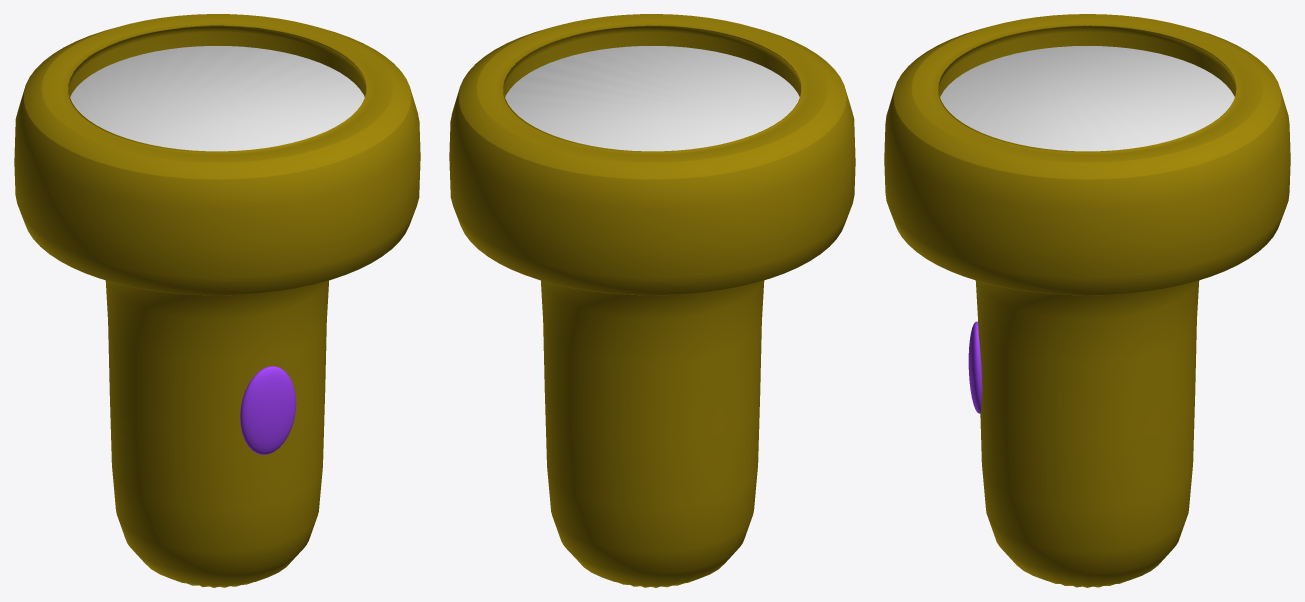
Rendered from Flashlight.fbx.
3 views of the same model, side by side, from view 1: azimuth 30°, elevation 25°; view 2: azimuth 150°, elevation 25°; view 3: azimuth 270°, elevation 25° (orthographic).
Parts seen in each view (by area): view 1: Flashlight; view 2: Flashlight; view 3: Flashlight.
Boxes of the visible parts, box(x1,y1,x2,y2) form: Flashlight: box(14, 14, 420, 587); Flashlight: box(449, 14, 855, 587); Flashlight: box(884, 14, 1290, 587).
Size of the model in its own units: 156 by 205 by 156.
